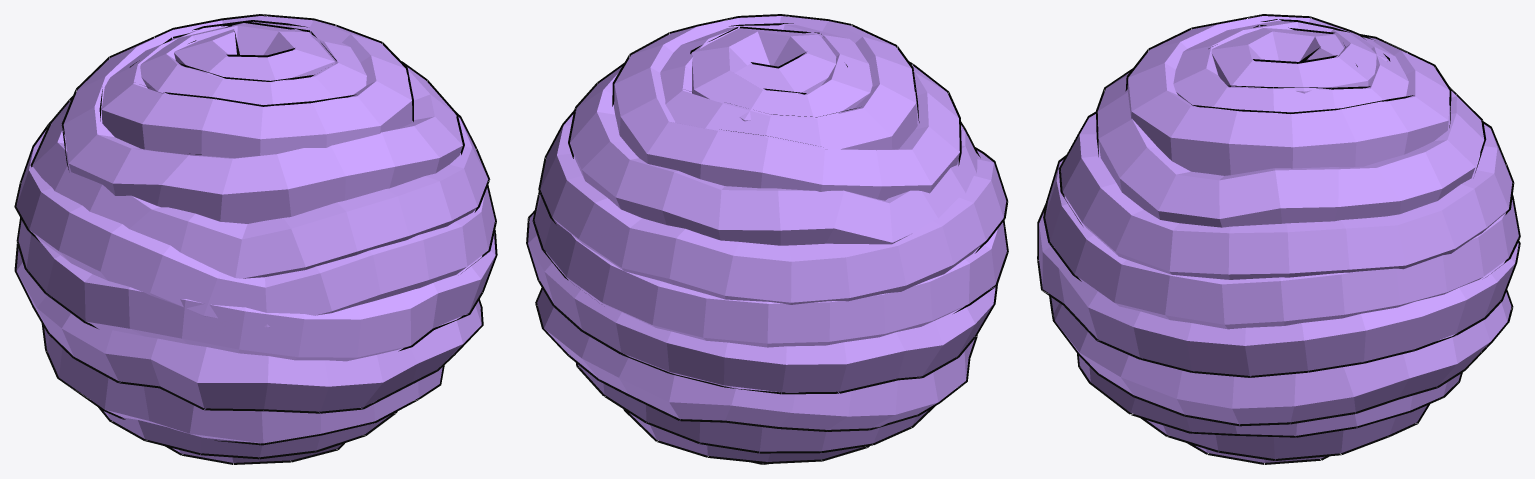
File: PlayerPerple.fbx
3 views of the same model, side by side, from view 1: azimuth 30°, elevation 25°; view 2: azimuth 150°, elevation 25°; view 3: azimuth 270°, elevation 25° (orthographic).
Parts seen in each view (by area): view 1: Cylinder.005; view 2: Cylinder.005; view 3: Cylinder.005.
Boxes of the visible parts, left/top/right/bottom form: Cylinder.005: left=14, top=14, right=497, bottom=464; Cylinder.005: left=526, top=14, right=1008, bottom=464; Cylinder.005: left=1037, top=14, right=1520, bottom=464.
Size of the model in its own units: 234 by 213 by 234.
